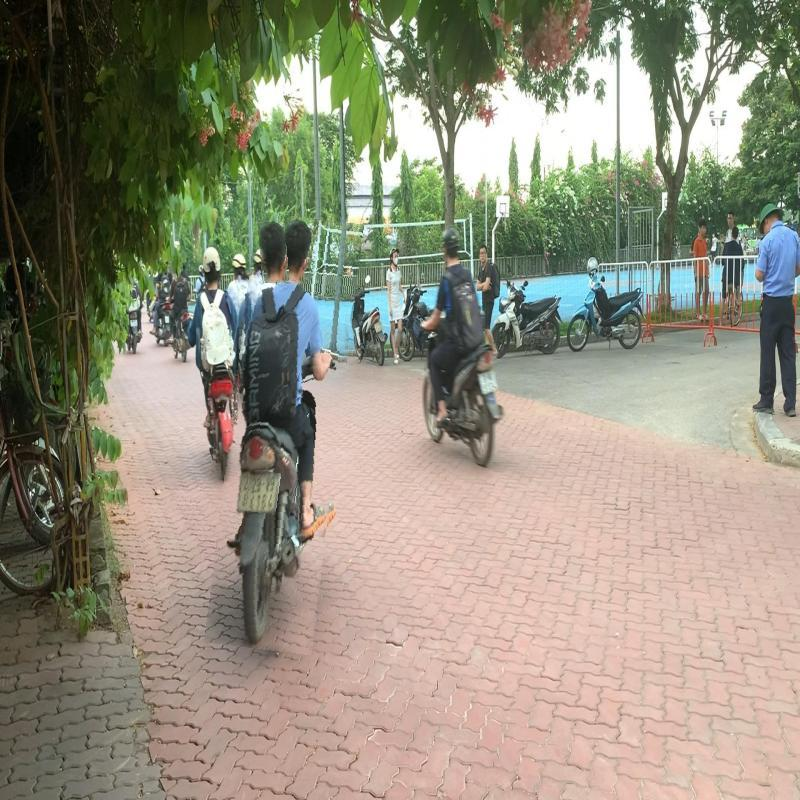licenseplate: (245, 470, 280, 514)
motorcyclist: (217, 215, 351, 653)
nohelmet: (259, 220, 288, 282)
